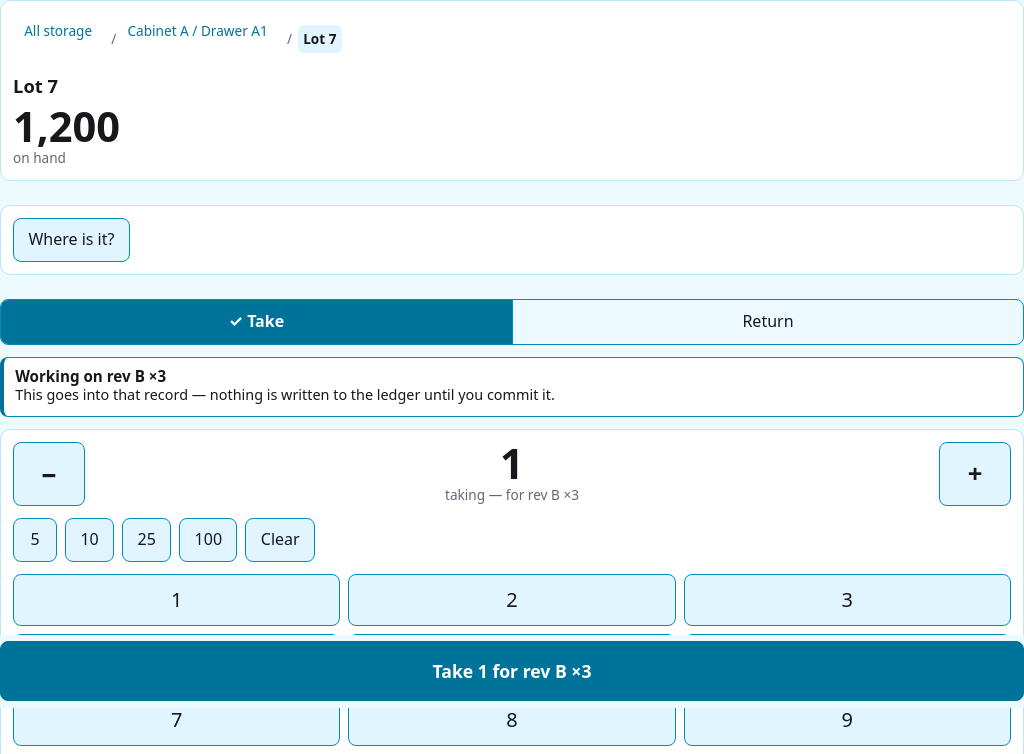
with a tab focused › adds a line to that tab's record and writes nothing
What coordinates should you click on to do the following:
click the button "Take 1 for rev B ×3"
I would click on:
 (512, 672)
Its box is [0, 642, 1023, 702].
(page scrolled)
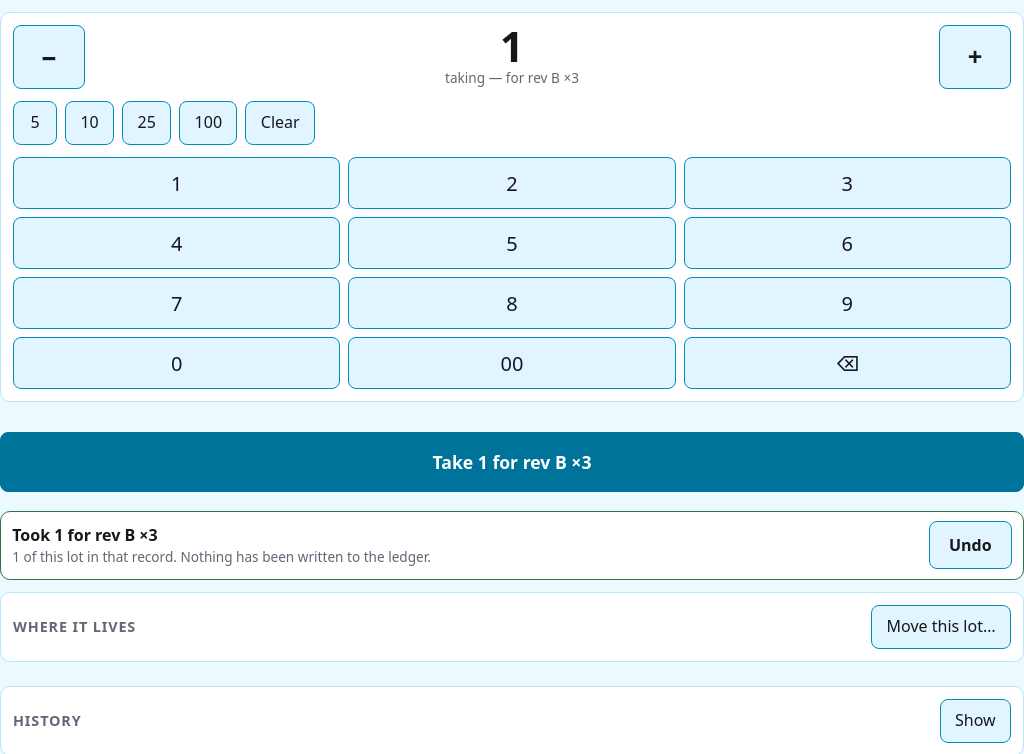
Check: the text "Nothing has been written to the ledger" is shown, box [12, 547, 431, 566]
